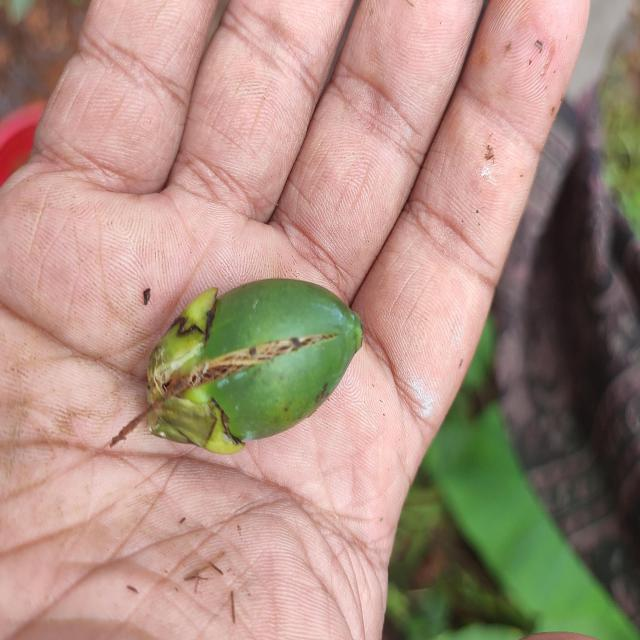damaged: (135, 278, 366, 459)
